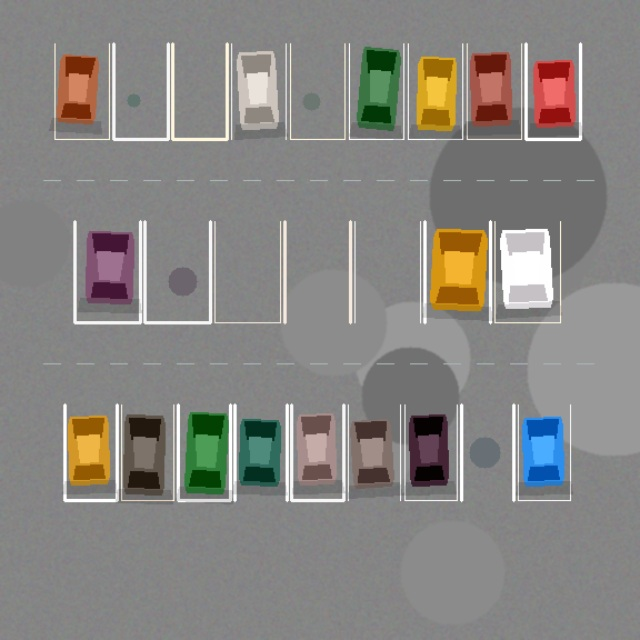space-empty: (144, 221, 210, 322), (214, 221, 280, 322), (284, 221, 350, 322), (354, 221, 420, 322), (113, 43, 168, 139), (172, 43, 227, 139), (290, 43, 344, 139), (461, 404, 513, 500)
space-occupied: (74, 221, 140, 322), (424, 221, 490, 322), (494, 221, 560, 322), (54, 43, 109, 139), (231, 43, 286, 139), (349, 43, 403, 139), (408, 43, 462, 139), (467, 43, 521, 139), (526, 43, 580, 139), (64, 404, 117, 500), (234, 404, 287, 500), (404, 404, 457, 500), (121, 404, 173, 500), (178, 404, 230, 500), (291, 404, 343, 500), (348, 404, 400, 500), (518, 404, 570, 500)
